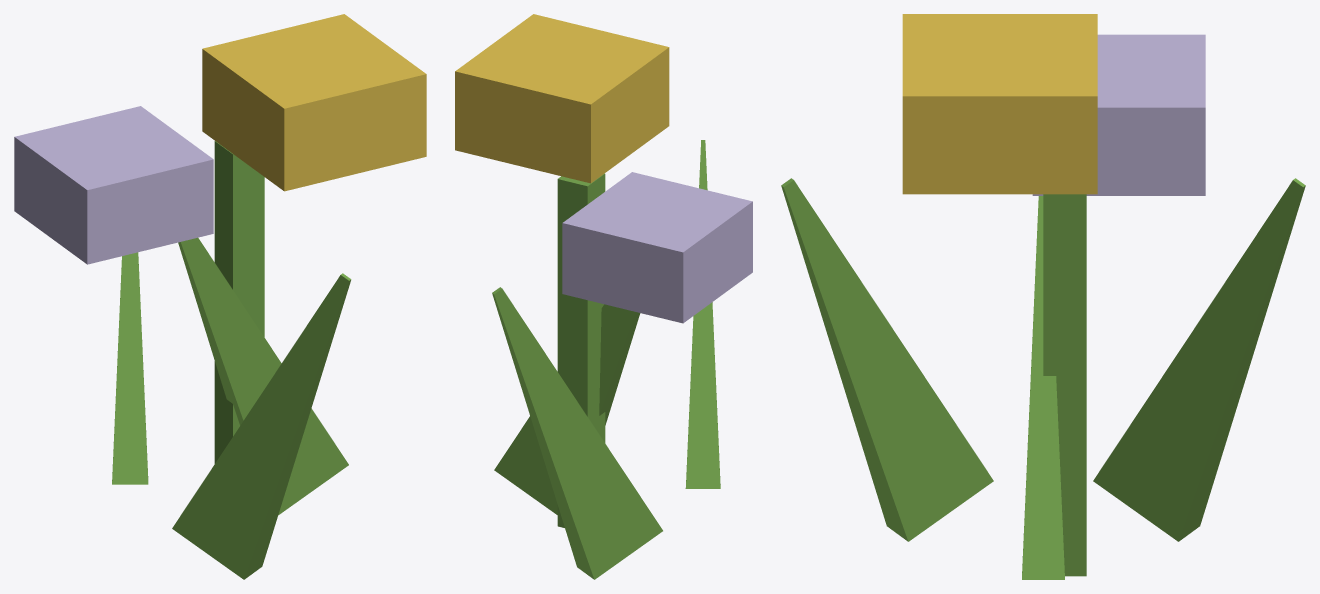
The model's file is prop_wildflowers.glb.
3 renders of one model, left to right at view 1: azimuth 30°, elevation 25°; view 2: azimuth 150°, elevation 25°; view 3: azimuth 270°, elevation 25°, orthographic. The views are drawn at different scales.
Visible parts, largest first — view 1: prop_wildflowers; view 2: prop_wildflowers; view 3: prop_wildflowers.
Boxes of the visible parts, left/top/right/bottom form: prop_wildflowers: left=14, top=14, right=426, bottom=579; prop_wildflowers: left=455, top=14, right=752, bottom=579; prop_wildflowers: left=781, top=14, right=1305, bottom=579.
Size of the model in its own units: 0.18 by 0.275 by 0.2425.
